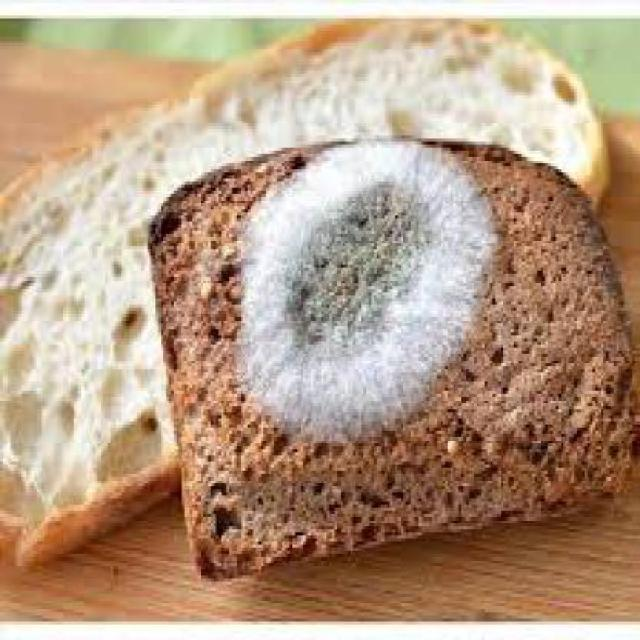mold_bread: (231, 131, 502, 434)
